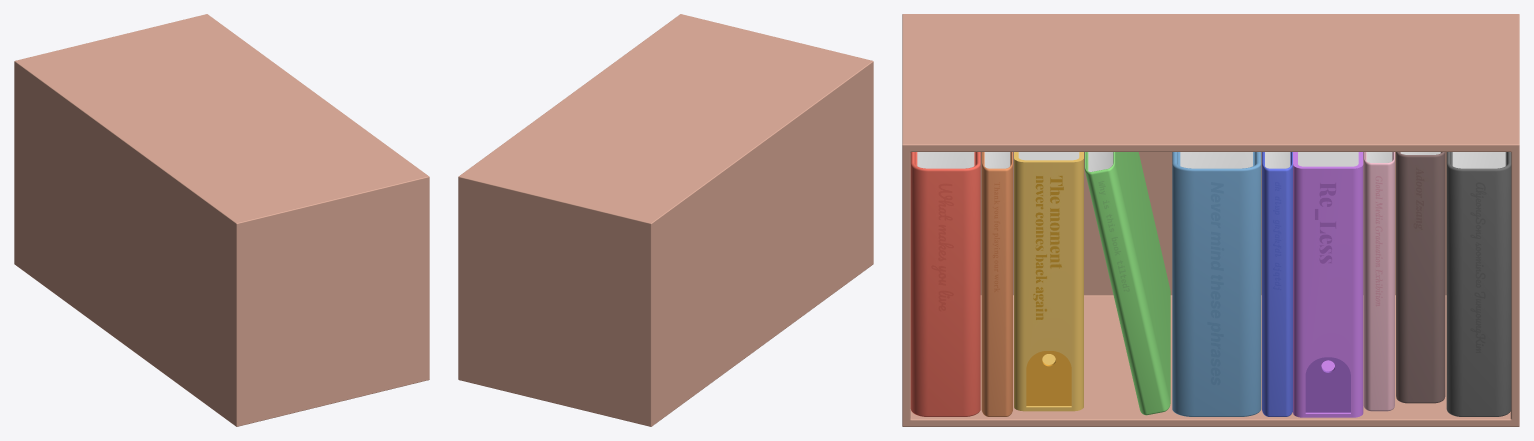
The model's file is Chater02_Bookcase.fbx.
3 views of the same model, side by side, from view 1: azimuth 30°, elevation 25°; view 2: azimuth 150°, elevation 25°; view 3: azimuth 270°, elevation 25° (orthographic). The views are drawn at different scales.
Parts seen in each view (by area): view 1: SmallBookcase.Body; view 2: SmallBookcase.Body; view 3: SmallBookcase.Body, Book.003, Book.001, Book.008, Book.Body.002, Book.Body.001, Book.004, Book.007, Book.002, Book.006, Book.005, Book.Door.002 (+1 smaller).
Boxes of the visible parts, x1=… form: SmallBookcase.Body: x1=14, y1=14, x2=429, y2=426; SmallBookcase.Body: x1=458, y1=14, x2=873, y2=426; SmallBookcase.Body: x1=902, y1=14, x2=1519, y2=426; Book.003: x1=1172, y1=152, x2=1261, y2=416; Book.001: x1=910, y1=152, x2=980, y2=416; Book.008: x1=1446, y1=152, x2=1511, y2=416; Book.Body.002: x1=1293, y1=152, x2=1363, y2=417; Book.Body.001: x1=1014, y1=152, x2=1083, y2=411; Book.004: x1=1084, y1=152, x2=1170, y2=415; Book.007: x1=1396, y1=152, x2=1445, y2=403; Book.002: x1=981, y1=152, x2=1012, y2=416; Book.006: x1=1363, y1=152, x2=1394, y2=411; Book.005: x1=1262, y1=152, x2=1292, y2=416; Book.Door.002: x1=1305, y1=357, x2=1350, y2=412.
Bounding box in the file's own units: 884 × 890 × 1763.
